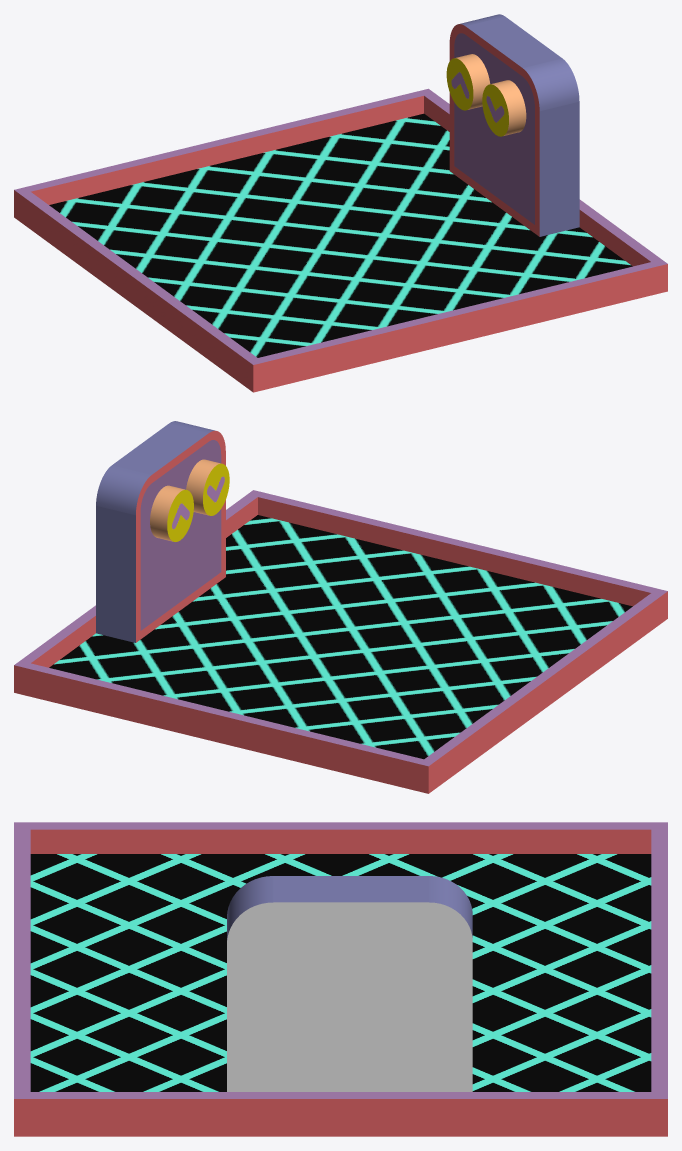
File: ascenseur.dae
3 views of the same model, one above another, from view 1: azimuth 30°, elevation 25°; view 2: azimuth 150°, elevation 25°; view 3: azimuth 270°, elevation 25° (orthographic). The views are drawn at different scales.
Parts seen in each view (by area): view 1: instance_1 (×4), instance_2 (×3), instance_4 (×2), instance_3 (×2); view 2: instance_1 (×4), instance_2 (×3), instance_3 (×2), instance_4 (×2); view 3: instance_1 (×4), instance_2 (×2).
Part boxes in pixels (x1,y1,x2,y2): instance_1 (×4): [14, 88, 667, 392]; instance_2 (×3): [449, 14, 579, 236]; instance_4 (×2): [482, 80, 526, 136]; instance_3 (×2): [446, 54, 490, 110]; instance_1 (×4): [14, 490, 667, 793]; instance_2 (×3): [96, 421, 225, 642]; instance_3 (×2): [150, 485, 193, 541]; instance_4 (×2): [186, 459, 229, 515]; instance_1 (×4): [14, 822, 667, 1136]; instance_2 (×2): [227, 876, 472, 1091].
Bounding box in the file's own units: 226 × 226 × 86.69.
